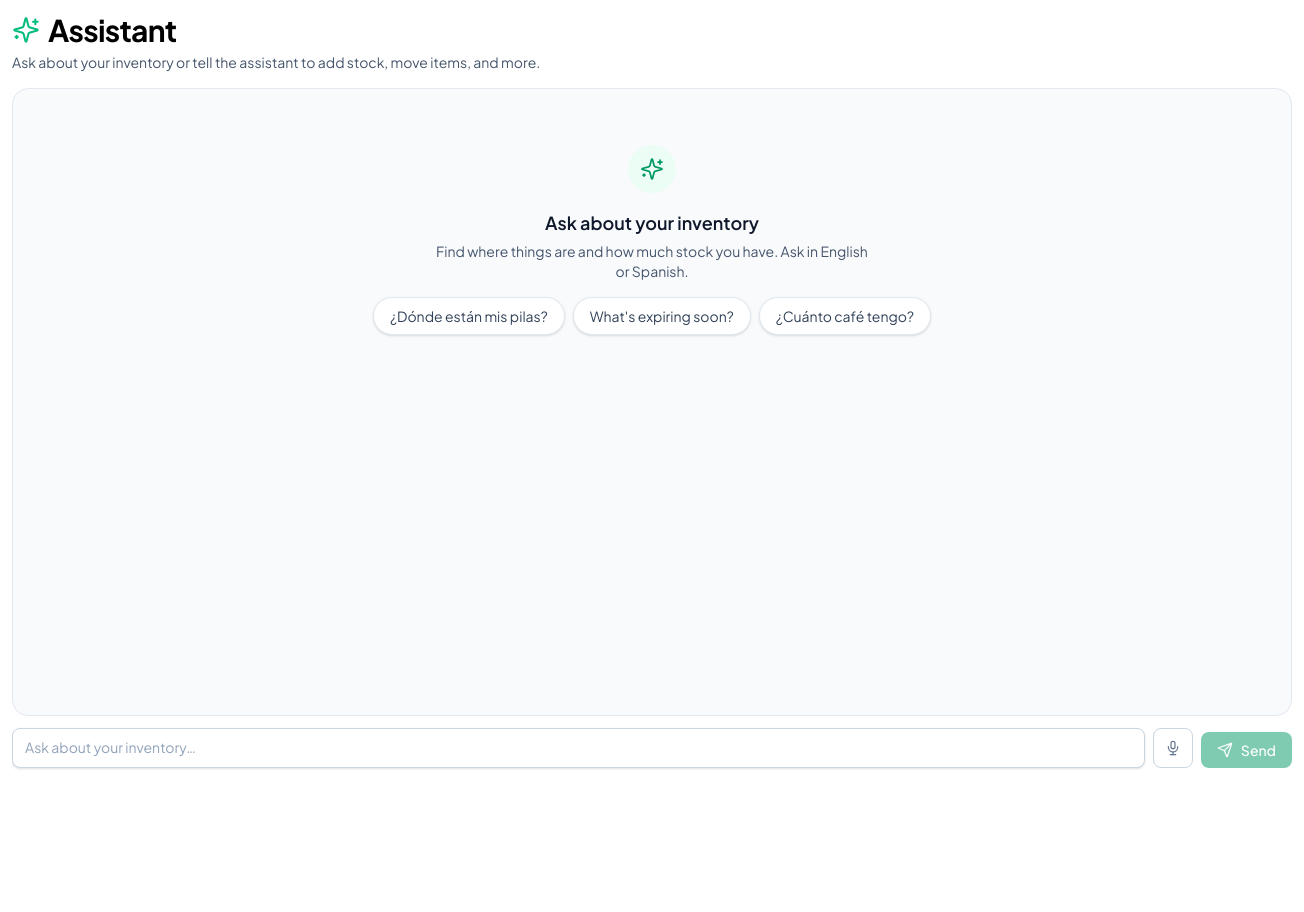
Test: AssistantView › shows a typing indicator while awaiting the answer
This screenshot has width=1304, height=912.
In the text box named "Ask the assistant": (578, 748) [12,728,1145,768], type "How much coffee do I have?"
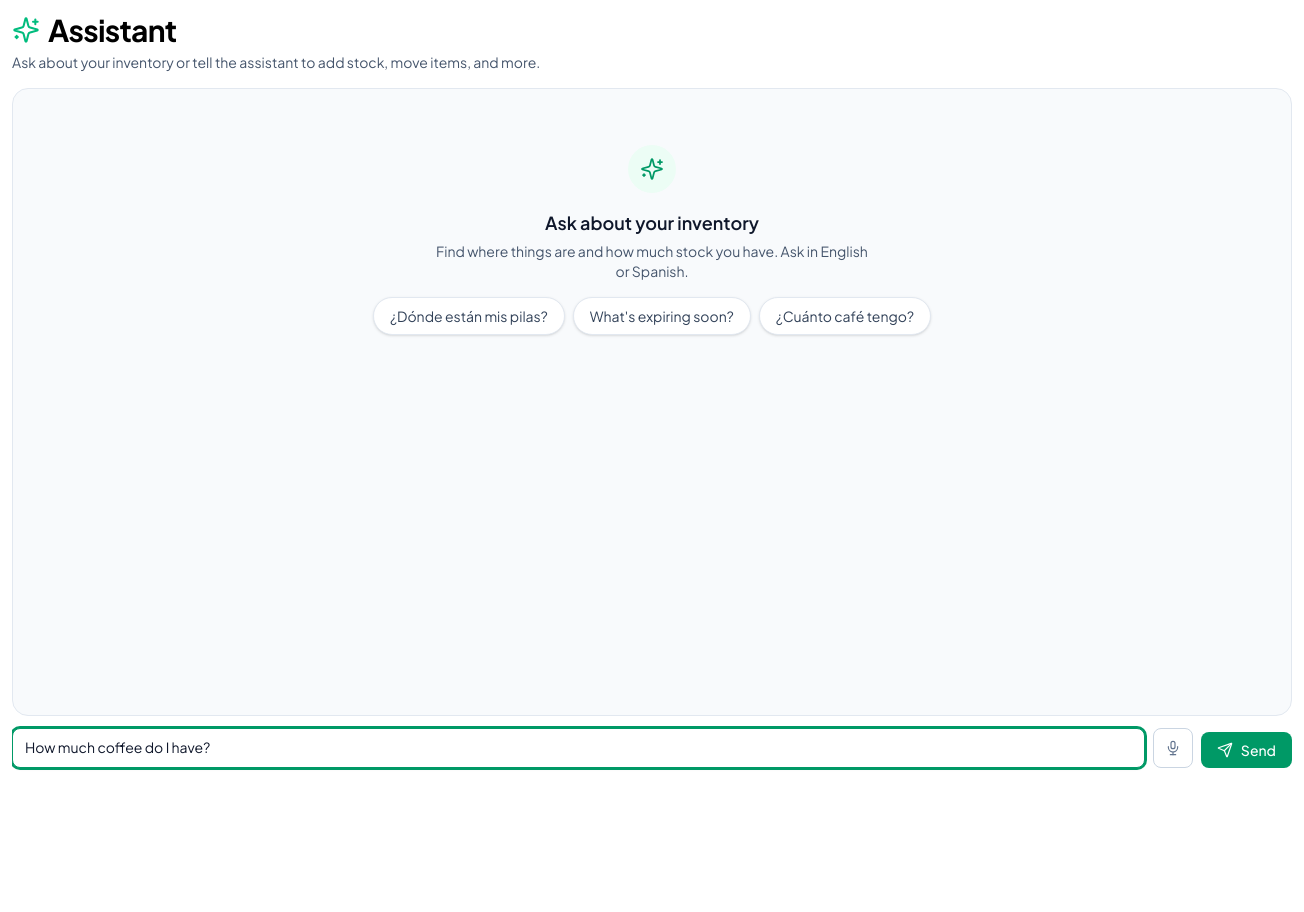
Click the button with aria-label "Send message": (1246, 750) [1201,732,1292,768]
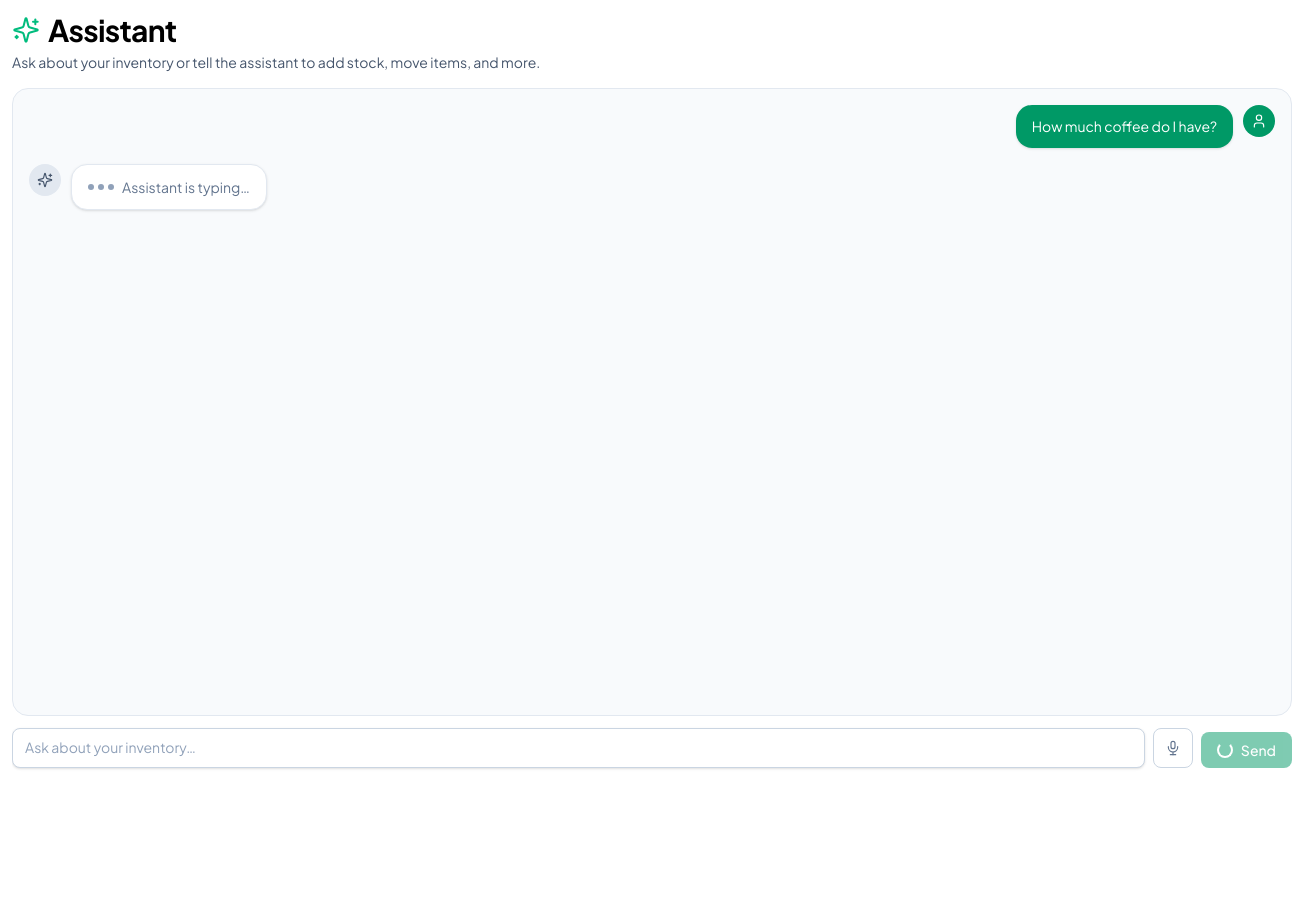
Result: the text "Assistant is typing…" is shown at [122,177,250,197]
